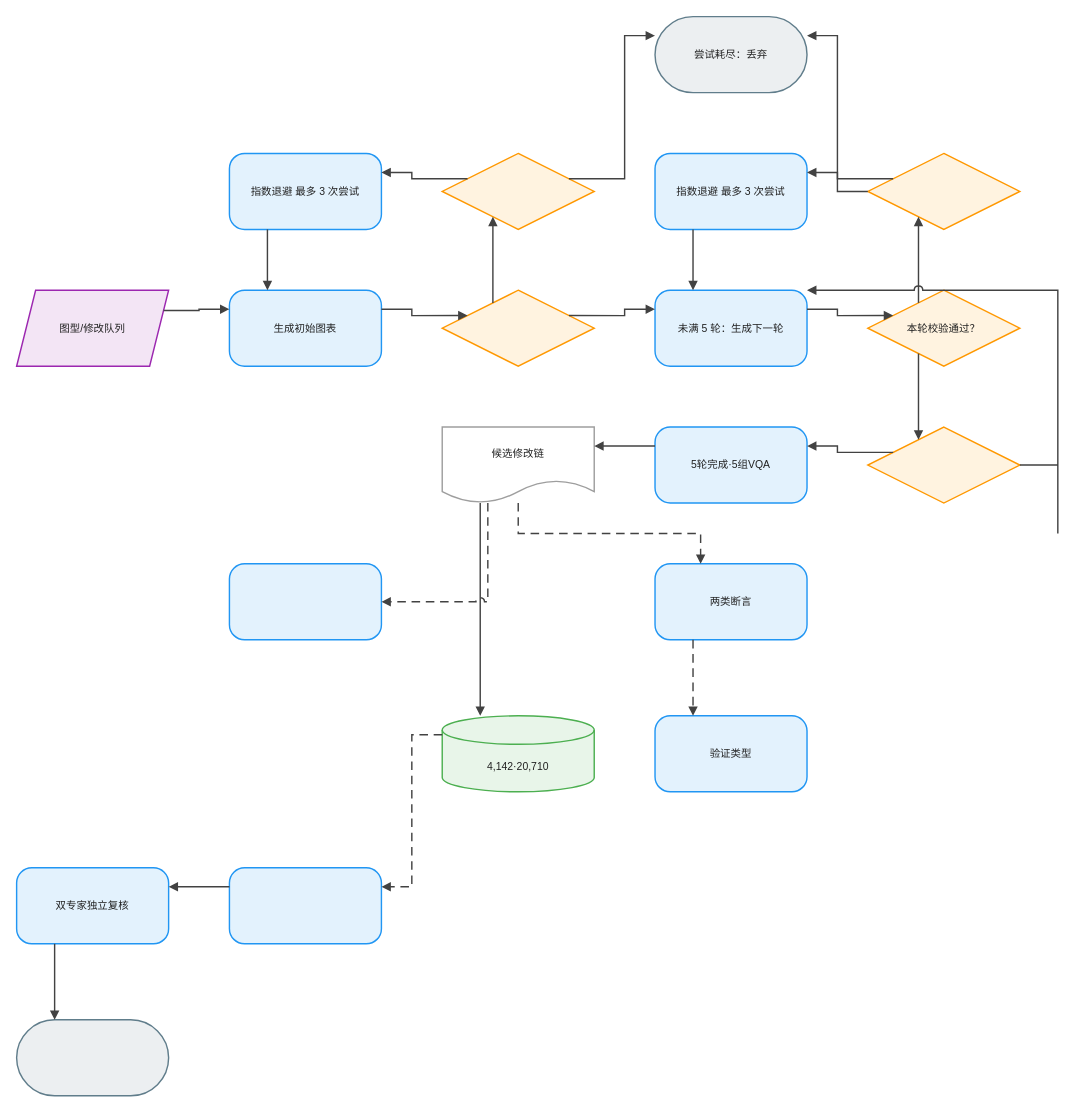
Some shapes in this 1083 by 1113 pixel diagram are drawn without their labels. The centre of each missing label's shape, as x and y in pixels:
Chart-R1质检: the point at 305,601
人工核验子集: the point at 92,1057
初图失败 仍可重试？: the point at 518,191
初图校验通过？: the point at 518,328
已完成 5 轮？: the point at 943,464
按图表类型抽样: the point at 305,905
本轮失败 仍可重试？: the point at 943,191
